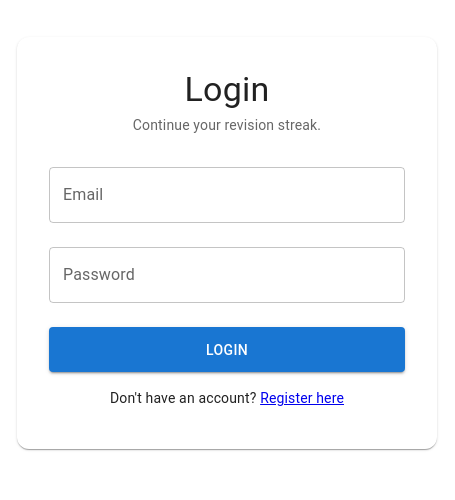
Login page › shows validation error when fields are empty
The width and height of the screenshot is (455, 500).
Click the button "Login" at (227, 350), box x1=49 y1=328 x2=405 y2=372
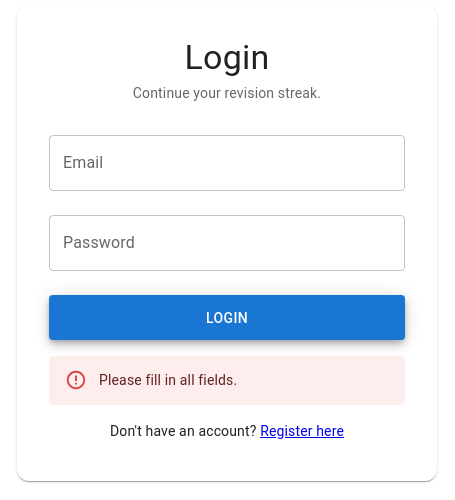
Expected: the text "Please fill in all fields." is shown, x1=99 y1=372 x2=237 y2=388
